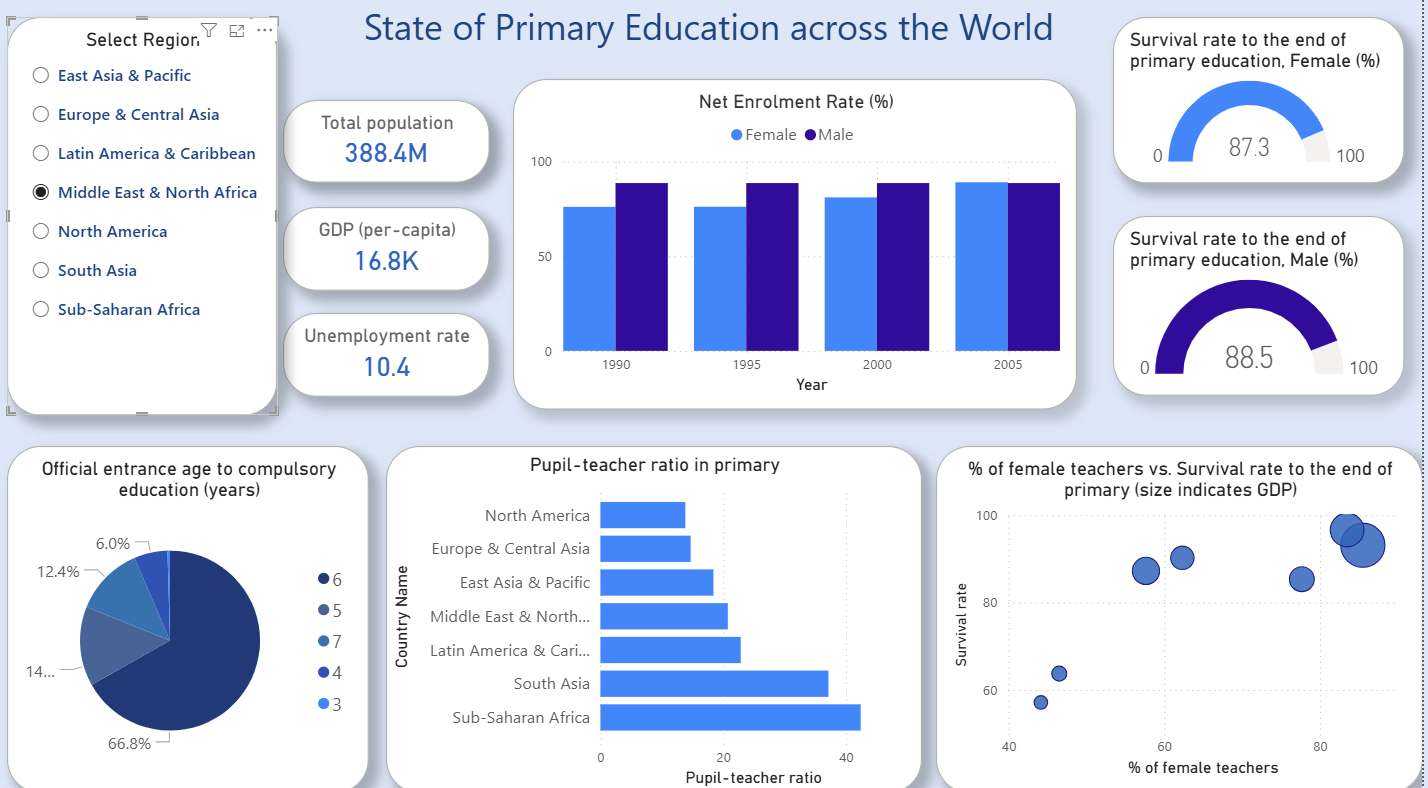

The page's visual inventory and layout, read from the dashboard file:
{"tool":"powerbi","page":{"name":"Page 2","canvas":[1280,720],"ordinal":0},"visuals":[{"type":"card","title":"GDP (per-capita)","fields":{"Values":["Avg(regions_2010 (L).GDP per capita, PPP (constant 2011 international $))"]},"box":[259.6,189.4,184.6,75],"z":0},{"type":"slicer","title":"Select Region","fields":{"Values":["regions_2010 (L).Country Name"]},"box":[12.9,19.4,241.9,357],"z":1},{"type":"card","title":"Total population","fields":{"Values":["Sum(regions_2010 (L).Population, total)"]},"box":[259.6,94.2,184.6,74],"z":2},{"type":"card","title":"Unemployment rate","fields":{"Values":["Avg(regions_2010 (L).Unemployment, total (% of total labor force))"]},"box":[259.6,284.6,184.6,75],"z":4},{"type":"gauge","title":"Survival rate to the end of primary education, Male (%)","fields":{"Y":["Avg(regions_2010 (L).Survival rate to the last grade of primary education, male (%))"]},"box":[1003.2,197.8,261.3,161.3],"z":7},{"type":"gauge","title":" Survival rate to the end of primary education, Female (%)","fields":{"Y":["Avg(regions_2010 (L).Survival rate to the last grade of primary education, female (%))"]},"box":[1003.2,19.4,261.3,149.5],"z":8},{"type":"clusteredColumnChart","title":"Net Enrolment Rate (%)","fields":{"Category":["trend_enrolment_rate(f).Year"],"Y":["Avg(trend_enrolment_rate(f).Value)","Avg(net_enrolment rate(m).count)"]},"box":[465.4,75,504.8,296.2],"z":9},{"type":"barChart","title":"Pupil-teacher ratio in primary ","fields":{"Category":["regions_2010.Country Name"],"Y":["Sum(regions_2010.Pupil-teacher ratio in primary education (headcount basis))"]},"box":[351.9,403.8,479.8,310.6],"z":10},{"type":"scatterChart","title":"% of female teachers vs. Survival rate to the end of primary (size indicates GDP)","fields":{"X":["regions_2010.Percentage of teachers in primary education who are female (%)"],"Size":["Avg(regions_2010.GDP per capita, PPP (constant 2011 international $))"],"Y":["regions_2010.Survival rate to the last grade of primary education, female (%)"]},"box":[844.2,403.8,435.6,310.6],"z":11},{"type":"pieChart","title":"Official entrance age to compulsory education (years)","fields":{"Category":["edstats_countries_2010.Official entrance age to compulsory education (years)"],"Y":["CountNonNull(edstats_countries_2010.Official entrance age to compulsory education (years))"]},"box":[12.5,403.8,324,310.6],"z":12},{"type":"textbox","box":[312.9,0,657,59.1],"z":14}]}

Visuals, with their boxes in screenshot pixels (x1, y1, x2, y2), scaled from the page's 1280x720 canvas onto the 1428x788 screenshot:
"GDP (per-capita)" card: rect(290, 207, 496, 289)
"Select Region" slicer: rect(14, 21, 284, 412)
"Total population" card: rect(290, 103, 496, 184)
"Unemployment rate" card: rect(290, 311, 496, 394)
"Survival rate to the end of primary education, Male (%)" gauge: rect(1119, 216, 1411, 393)
" Survival rate to the end of primary education, Female (%)" gauge: rect(1119, 21, 1411, 185)
"Net Enrolment Rate (%)" clusteredColumnChart: rect(519, 82, 1082, 406)
"Pupil-teacher ratio in primary " barChart: rect(393, 442, 928, 782)
"% of female teachers vs. Survival rate to the end of primary (size indicates GDP)" scatterChart: rect(942, 442, 1427, 782)
"Official entrance age to compulsory education (years)" pieChart: rect(14, 442, 375, 782)
textbox: rect(349, 0, 1082, 65)
